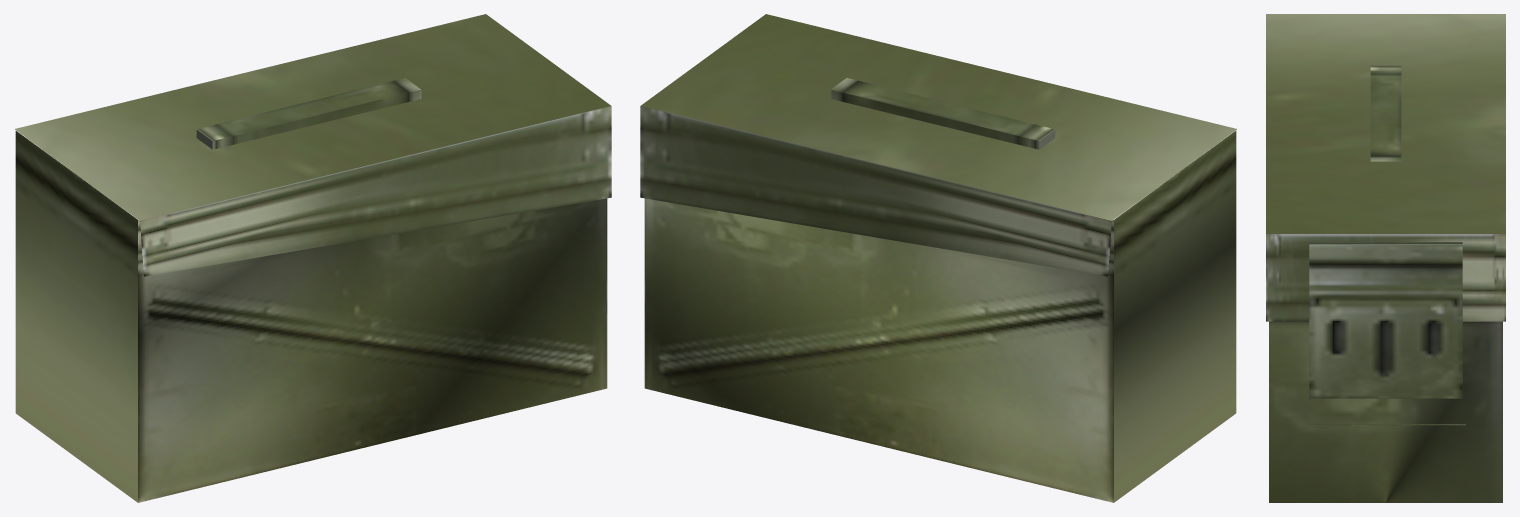
3 renders of one model, left to right at view 1: azimuth 30°, elevation 25°; view 2: azimuth 150°, elevation 25°; view 3: azimuth 270°, elevation 25°, orthographic. The views are drawn at different scales.
Visible parts, largest first — view 1: Cube; view 2: Cube; view 3: Cube.
Boxes of the visible parts, x1,y1,x2,y2 form: Cube: [15, 14, 611, 502]; Cube: [640, 14, 1236, 502]; Cube: [1266, 14, 1505, 502].
Bounding box in the file's own units: 0.9201 × 0.5336 × 0.4153.
1 material, 1 textured.
